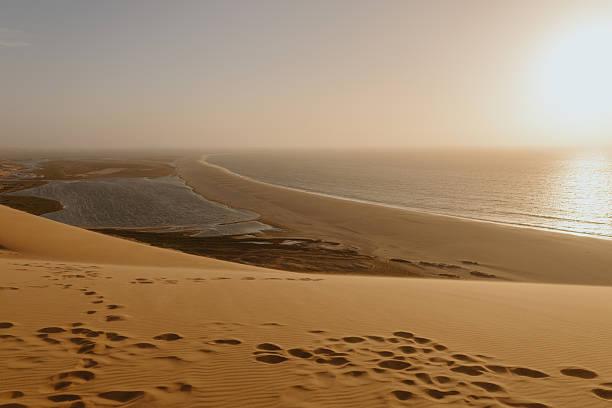human_foot_print: (31, 282, 611, 406), (32, 319, 611, 407), (0, 265, 196, 407), (253, 331, 597, 407), (0, 322, 193, 407)
